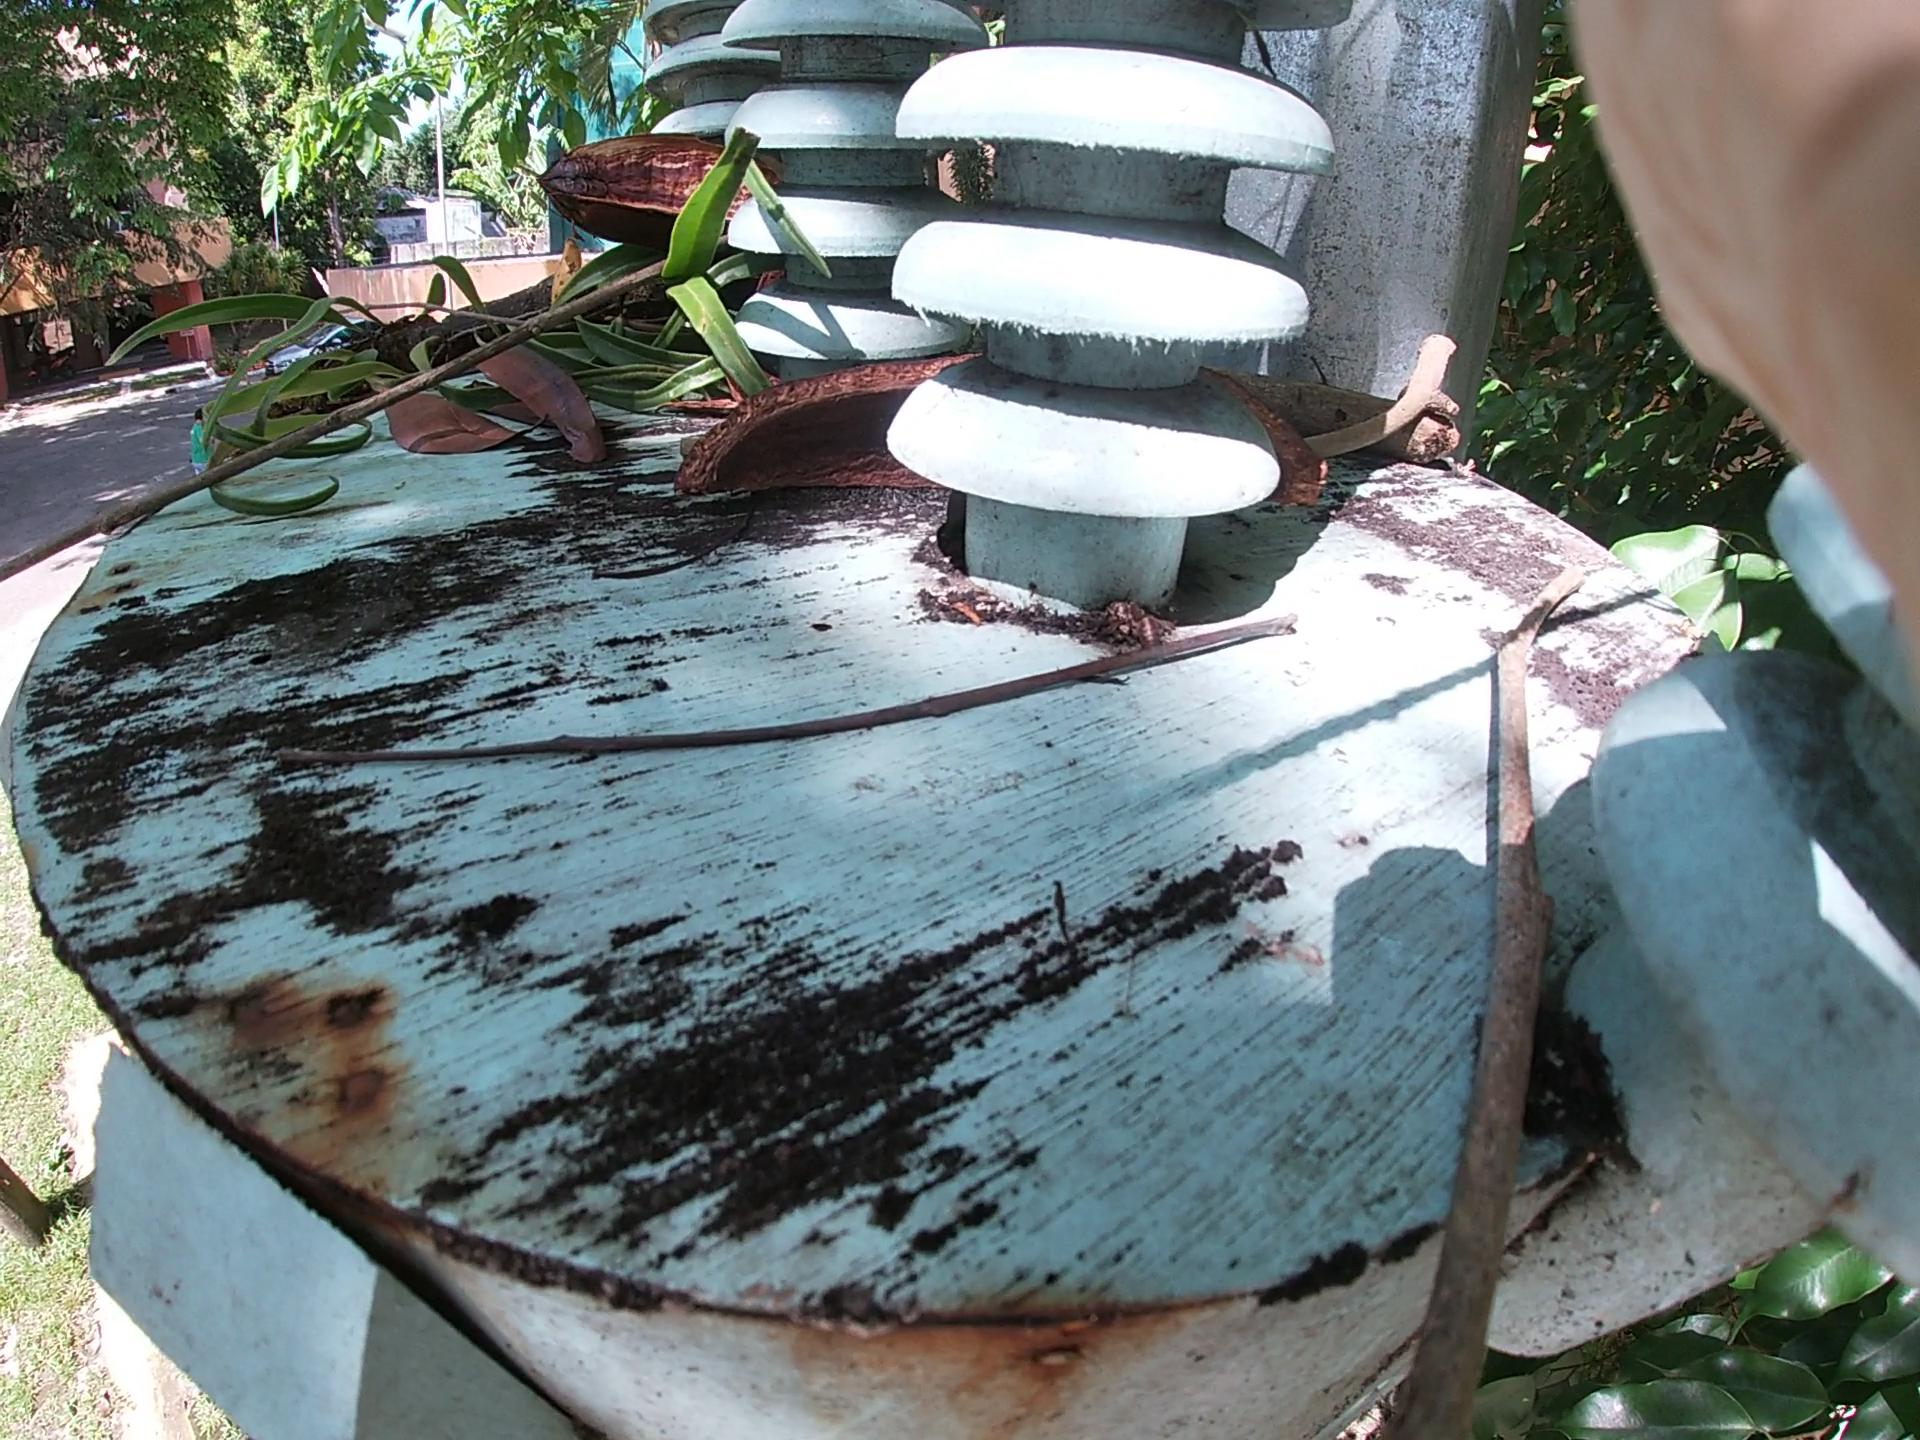branch with leaves: (67, 186, 800, 523)
leaf: (361, 340, 605, 437)
mahogany fruit: (658, 355, 1123, 569), (503, 135, 841, 342)
tree branch: (67, 237, 714, 564), (243, 617, 1261, 750), (1460, 507, 1577, 1333), (1249, 272, 1541, 537)
